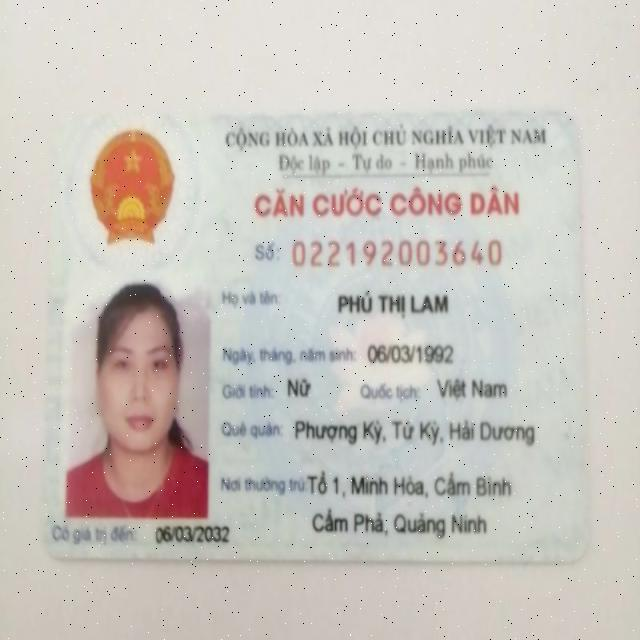current_place: (304, 468, 514, 502), (308, 504, 492, 538)
dob: (366, 340, 460, 369)
expire_date: (154, 522, 233, 546)
gender: (284, 373, 315, 403)
id: (291, 235, 504, 269)
name: (336, 286, 451, 320)
nationality: (436, 373, 511, 404)
origin_place: (288, 413, 540, 447)
